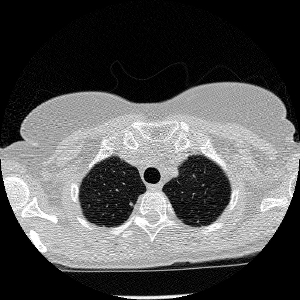nodule: (128, 202, 132, 206)
